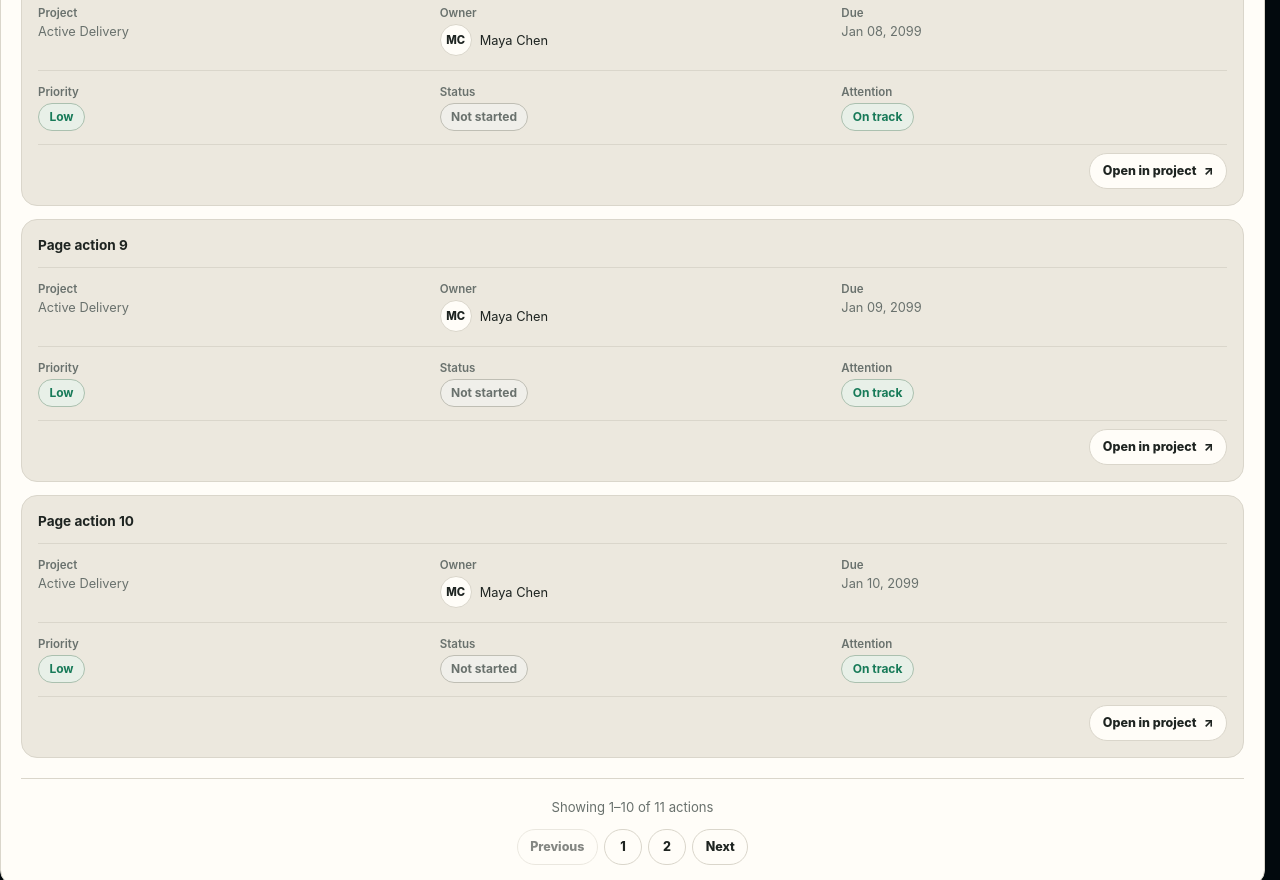
Test case: GlobalActionsPage › paginates eleven actions and resets to page one after filtering
(page scrolled)
Check: the text "Page action 11" is not shown
Check: the navigation bar named "Portfolio actions pagination" shows "Showing 1–10 of 11 actions", box [21, 778, 1244, 865]
Click the button "Next" at (720, 847), box [692, 829, 748, 865]
(page scrolled)
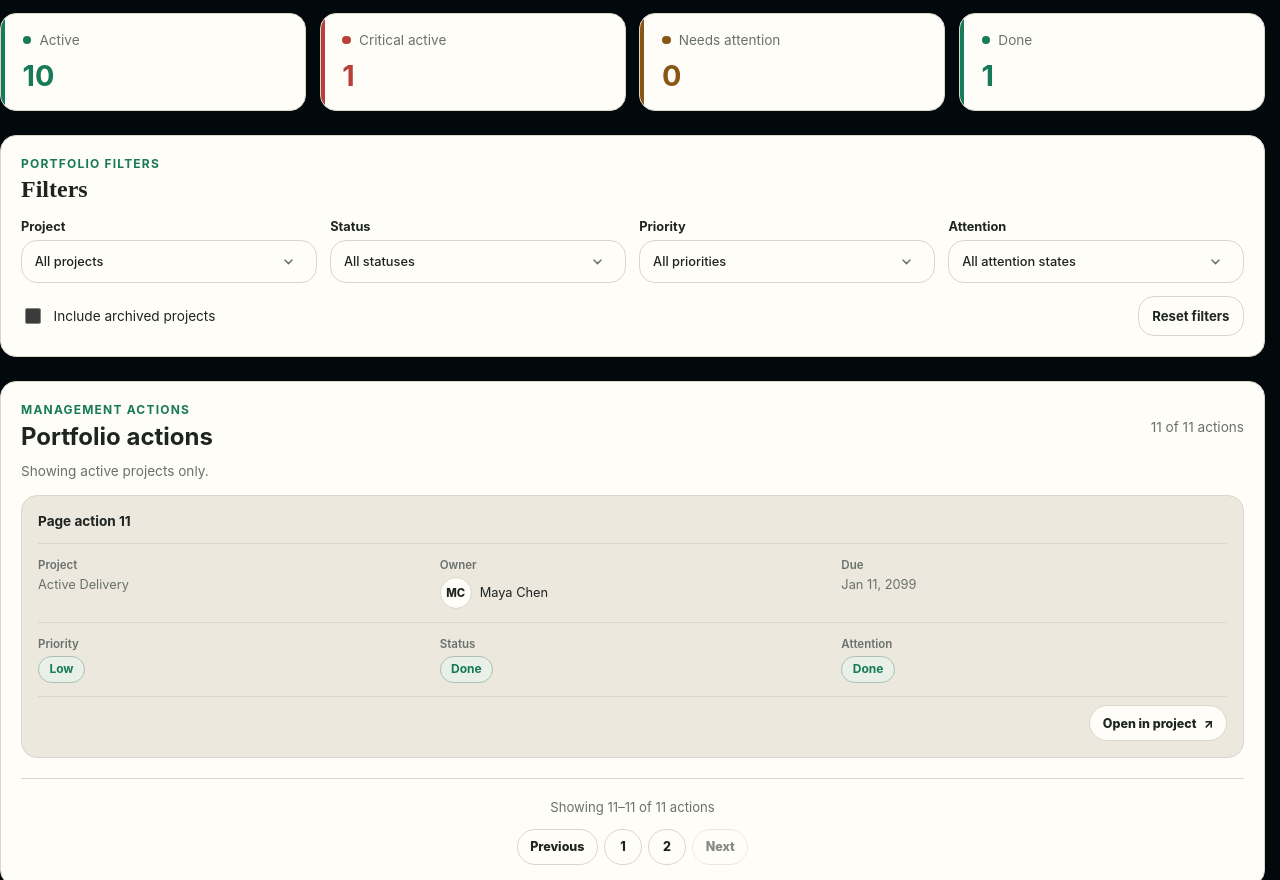
Check: the heading "Page action 11" is shown, box [38, 513, 131, 529]
Check: the number of links "Open in project ↗" is 1, box [1089, 705, 1227, 741]
Check: the navigation bar named "Portfolio actions pagination" shows "Showing 11–11 of 11 actions", box [21, 778, 1244, 865]
Click the button "Previous" at (557, 847), box [517, 829, 598, 865]
(page scrolled)
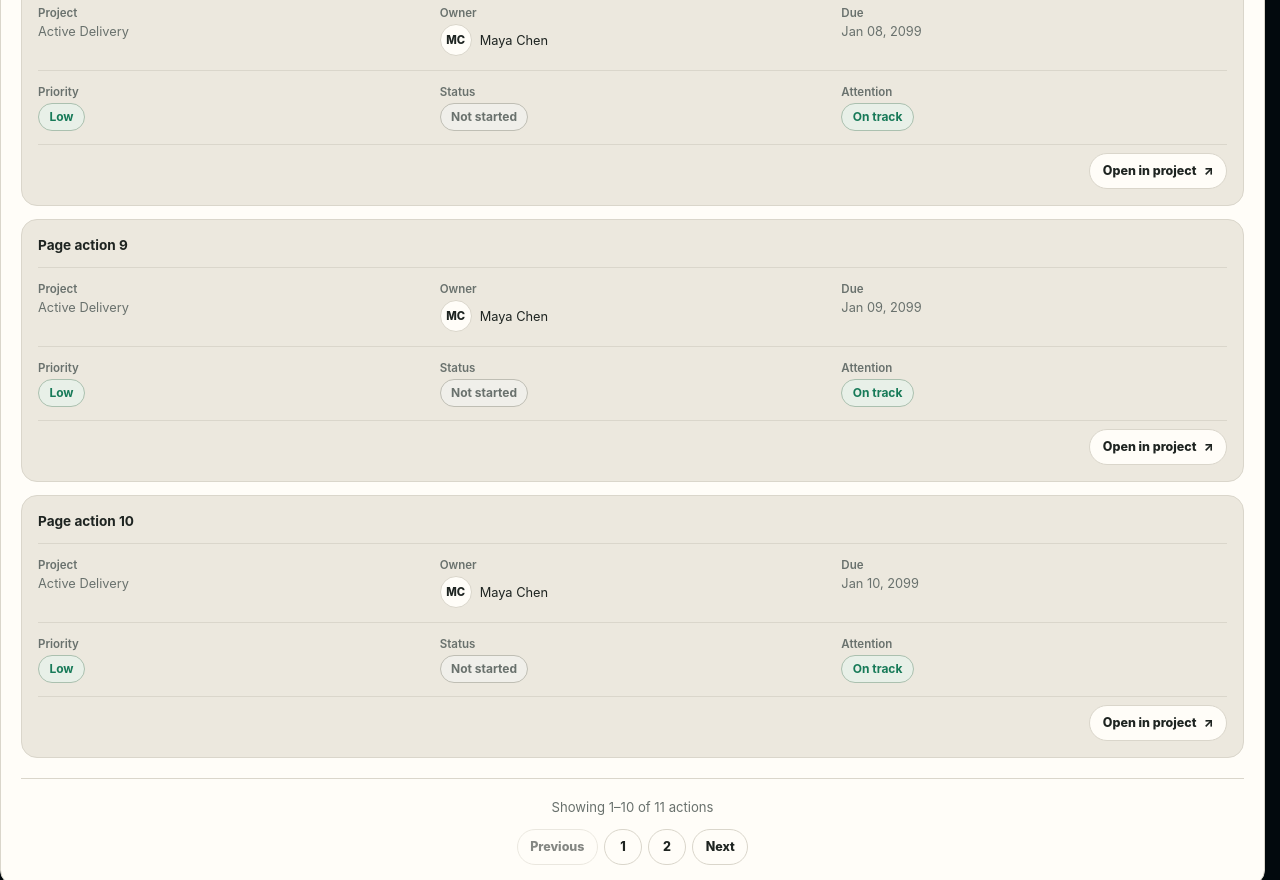
Check: the heading "Page action 11" is gone
Click the button named "Page 2" at (667, 847), box [648, 829, 686, 865]
(page scrolled)
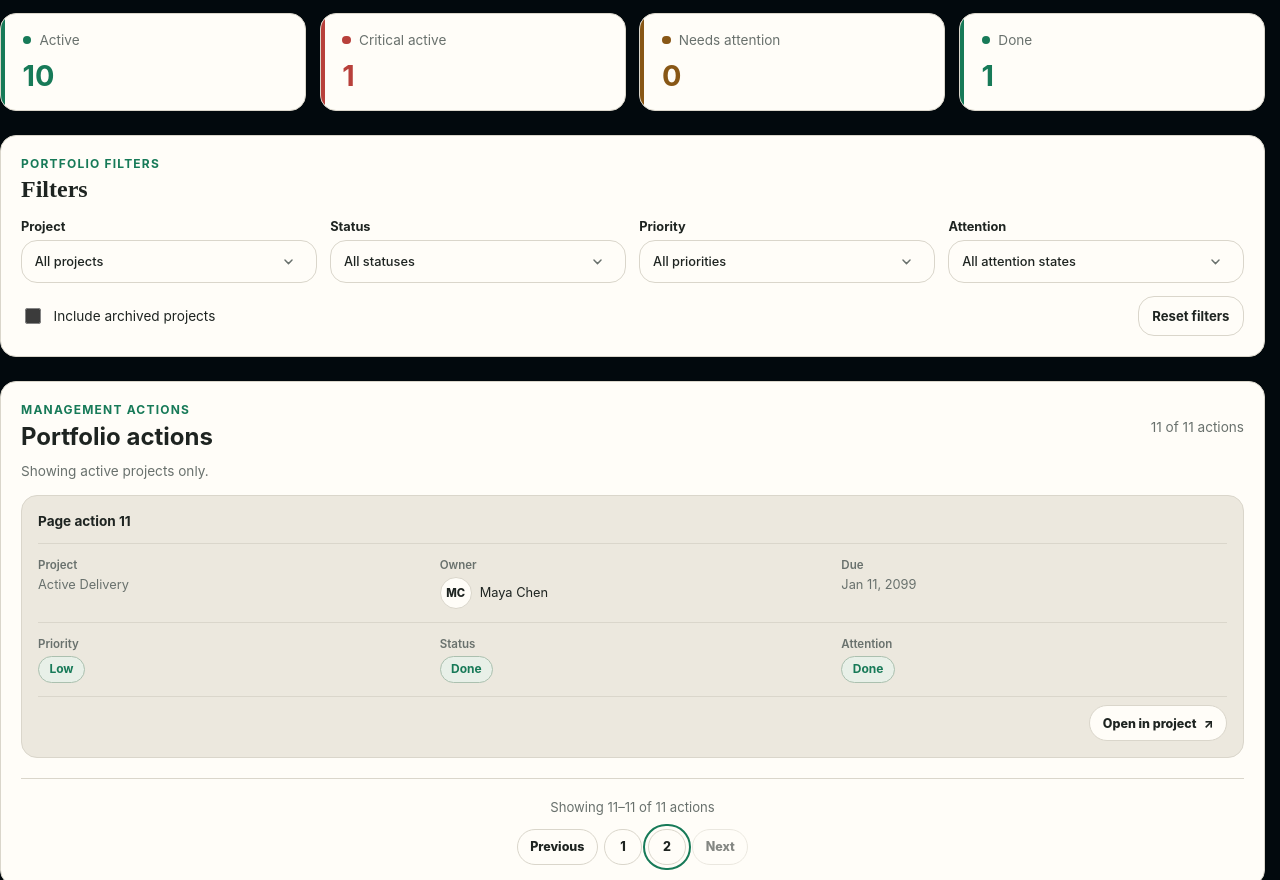
Select "Done" in the dropdown labelled "Status" at (478, 262), box [330, 240, 626, 283]
(page scrolled)
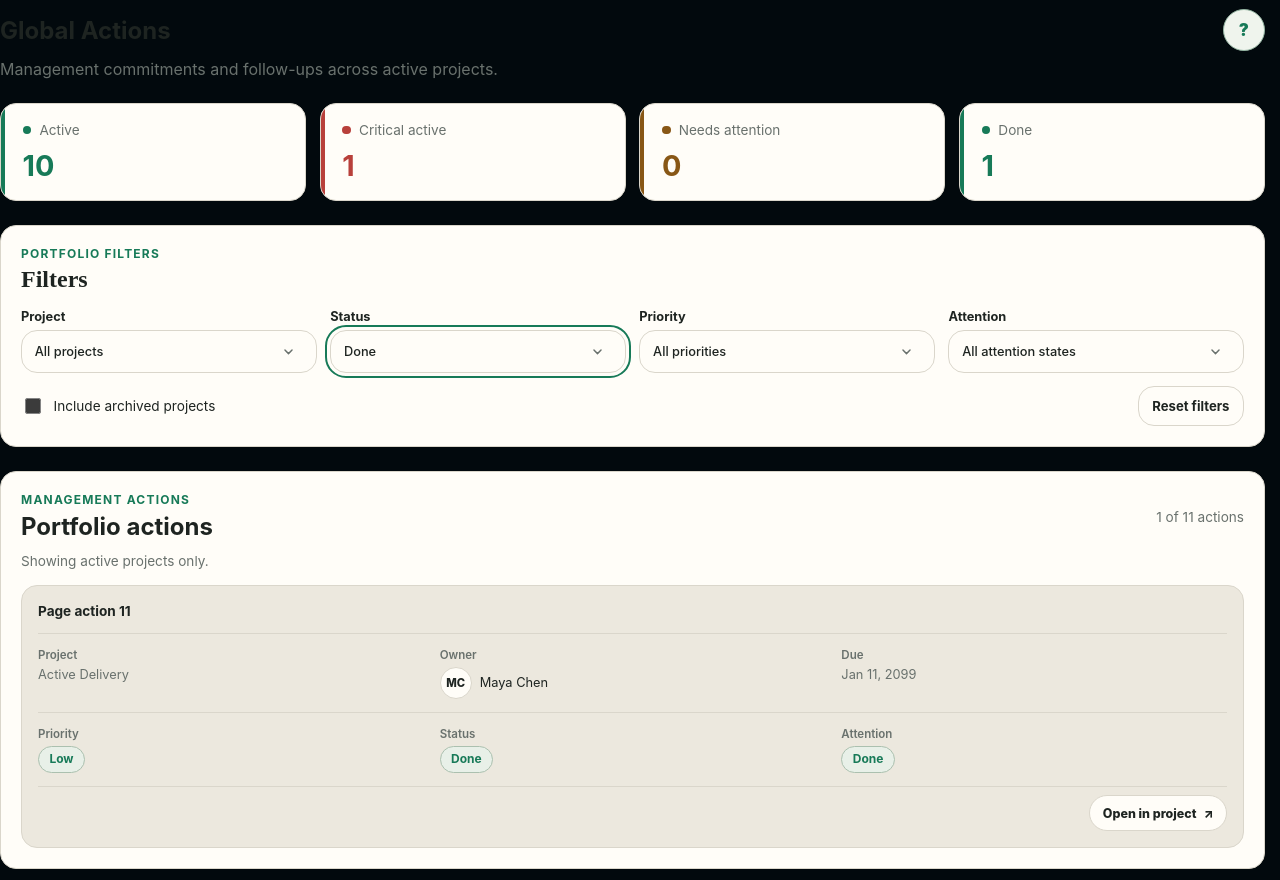
Check: the heading "Page action 11" is shown, box [38, 603, 131, 619]
Select "All statuses" in the dropdown labelled "Status" at (478, 352), box [330, 330, 626, 373]
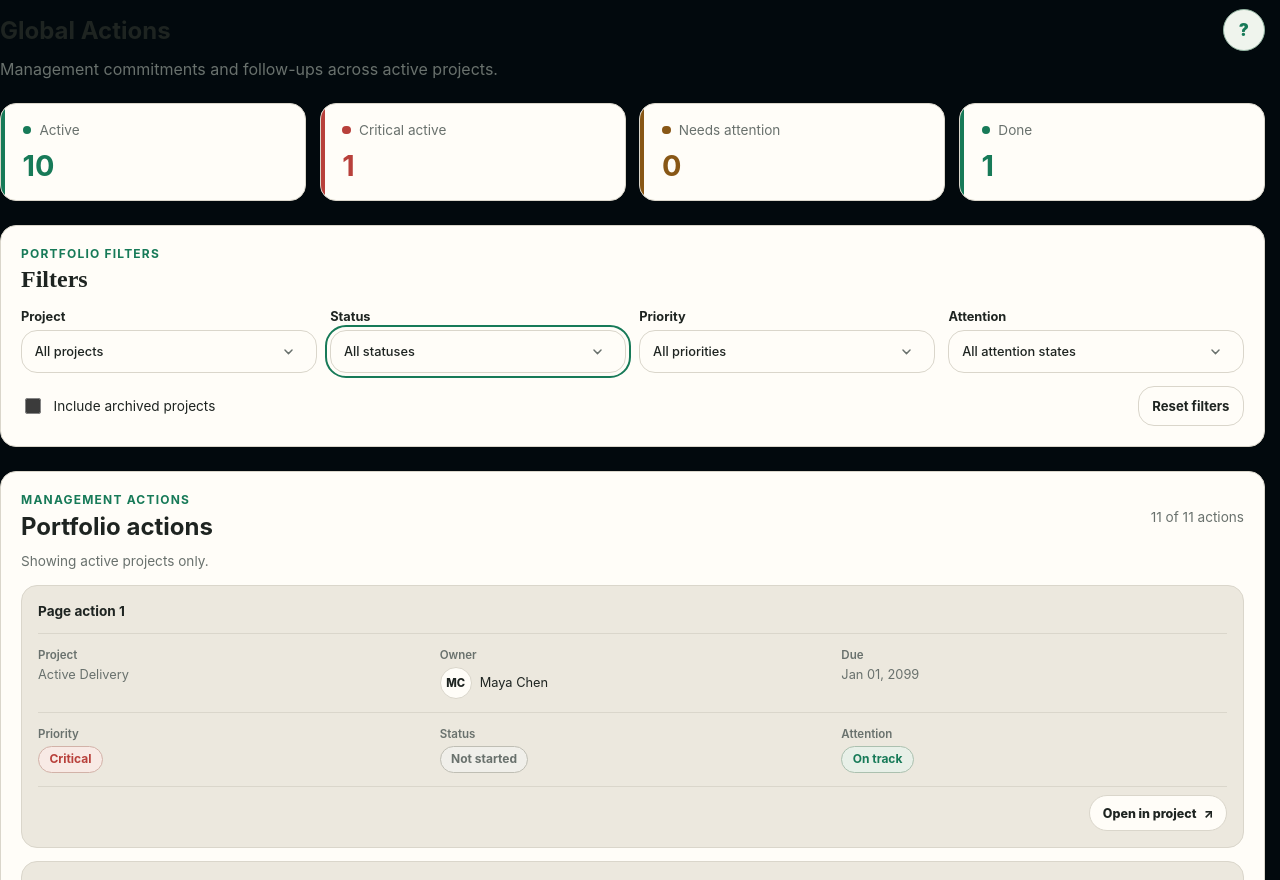
Check: the heading "Page action 1" is shown, box [38, 603, 125, 619]
Check: the heading "Page action 11" is gone
